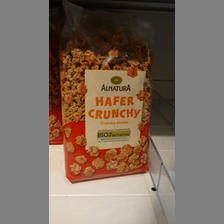cereal: (58, 22, 153, 183)
